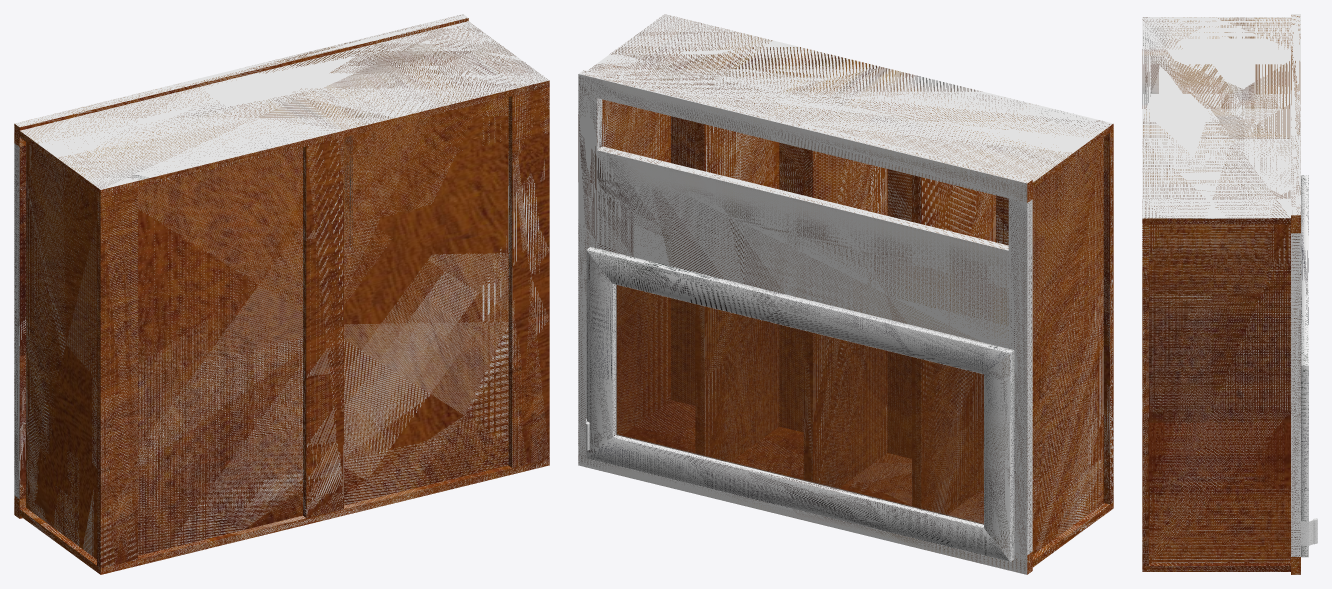
The picture shows the model from 3 angles, left to right: view 1: azimuth 30°, elevation 25°; view 2: azimuth 150°, elevation 25°; view 3: azimuth 270°, elevation 25°; orthographic projection. The views are drawn at different scales.
Parts seen in each view (by area): view 1: mesh6_mesh6-geometry, mesh3_mesh3-geometry, mesh7_mesh7-geometry, mesh2_mesh2-geometry, mesh8_mesh8-geometry, mesh10_mesh10-geometry, mesh4_mesh4-geometry, mesh24_mesh24-geometry; view 2: mesh13_mesh13-geometry, mesh14_mesh14-geometry, mesh12_mesh12-geometry, mesh11_mesh11-geometry, mesh2_mesh2-geometry, mesh7_mesh7-geometry, mesh4_mesh4-geometry, mesh21_mesh21-geometry, mesh15_mesh15-geometry, mesh5_mesh5-geometry, mesh10_mesh10-geometry, mesh8_mesh8-geometry (+8 smaller); view 3: mesh1_mesh1-geometry, mesh7_mesh7-geometry, mesh4_mesh4-geometry, mesh3_mesh3-geometry, mesh10_mesh10-geometry, mesh8_mesh8-geometry, mesh15_mesh15-geometry, mesh22_mesh22-geometry, mesh23_mesh23-geometry, mesh18_mesh18-geometry.
Boxes of the visible parts, left/top/right/bottom form: mesh6_mesh6-geometry: left=138, top=97, right=508, bottom=555; mesh3_mesh3-geometry: left=97, top=87, right=549, bottom=568; mesh7_mesh7-geometry: left=19, top=21, right=549, bottom=196; mesh2_mesh2-geometry: left=26, top=142, right=96, bottom=559; mesh8_mesh8-geometry: left=19, top=459, right=549, bottom=574; mesh10_mesh10-geometry: left=14, top=14, right=468, bottom=146; mesh4_mesh4-geometry: left=14, top=143, right=25, bottom=499; mesh24_mesh24-geometry: left=344, top=135, right=352, bottom=250; mesh13_mesh13-geometry: left=618, top=285, right=983, bottom=522; mesh14_mesh14-geometry: left=619, top=286, right=983, bottom=521; mesh12_mesh12-geometry: left=695, top=122, right=995, bottom=514; mesh11_mesh11-geometry: left=597, top=146, right=1008, bottom=348; mesh2_mesh2-geometry: left=602, top=99, right=1103, bottom=554; mesh7_mesh7-geometry: left=587, top=14, right=1113, bottom=188; mesh4_mesh4-geometry: left=578, top=93, right=1032, bottom=555; mesh21_mesh21-geometry: left=614, top=433, right=983, bottom=554; mesh15_mesh15-geometry: left=614, top=253, right=985, bottom=373; mesh5_mesh5-geometry: left=671, top=116, right=1008, bottom=458; mesh10_mesh10-geometry: left=578, top=70, right=1032, bottom=202; mesh8_mesh8-geometry: left=623, top=400, right=1113, bottom=567; mesh1_mesh1-geometry: left=1149, top=224, right=1290, bottom=563; mesh7_mesh7-geometry: left=1142, top=17, right=1290, bottom=224; mesh4_mesh4-geometry: left=1291, top=233, right=1300, bottom=556; mesh3_mesh3-geometry: left=1142, top=224, right=1148, bottom=565; mesh10_mesh10-geometry: left=1291, top=14, right=1300, bottom=233; mesh8_mesh8-geometry: left=1142, top=563, right=1290, bottom=571; mesh15_mesh15-geometry: left=1301, top=188, right=1308, bottom=352; mesh22_mesh22-geometry: left=1301, top=392, right=1308, bottom=521; mesh23_mesh23-geometry: left=1301, top=518, right=1317, bottom=545; mesh18_mesh18-geometry: left=1301, top=353, right=1308, bottom=392.
Size of the model in its own units: 0.7392 by 0.616 by 0.2723.
